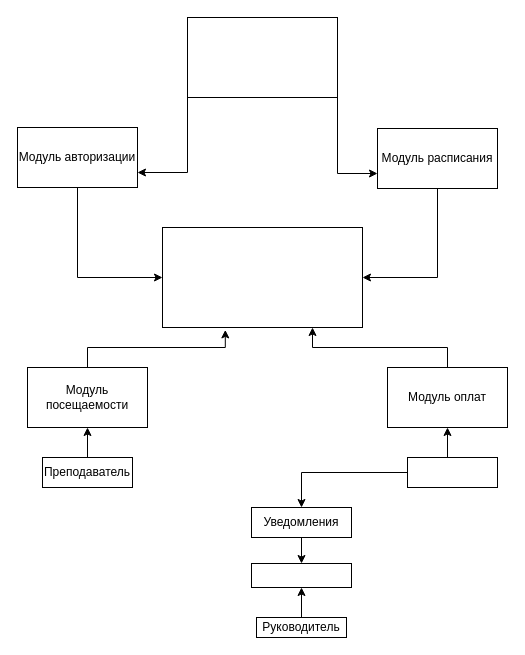
Some shapes in this 525 by 655 pixel diagram are drawn without their labels. The centre of each missing label's shape, as x and y in pixels:
"Администратор" belongs at (x=452, y=472).
"База данных студии -клиенты -преподаватели -группы -посещаемость -оплаты" belongs at (x=262, y=277).
"Личный кабинет -расписание -запись на занятия -посещения -оплаты" belongs at (x=262, y=57).
"Отчеты и статистика" belongs at (x=301, y=575).
